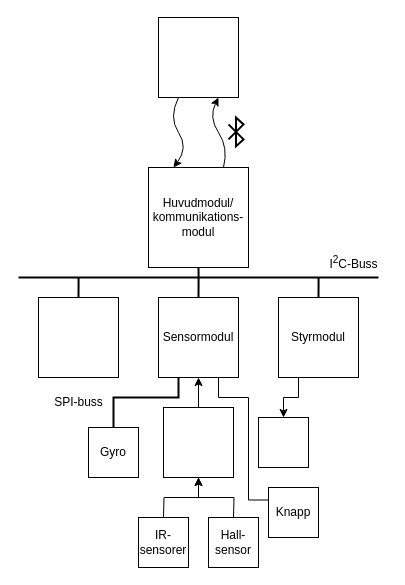
This 405x585 diagram has some shape labels left out. The centre of each missing label's shape, as x and y in pixels:
AD-omvandlare: the point at 198,442
Extern dator: the point at 198,57
Lasersensor: the point at 78,337
Sumo: the point at 283,442
